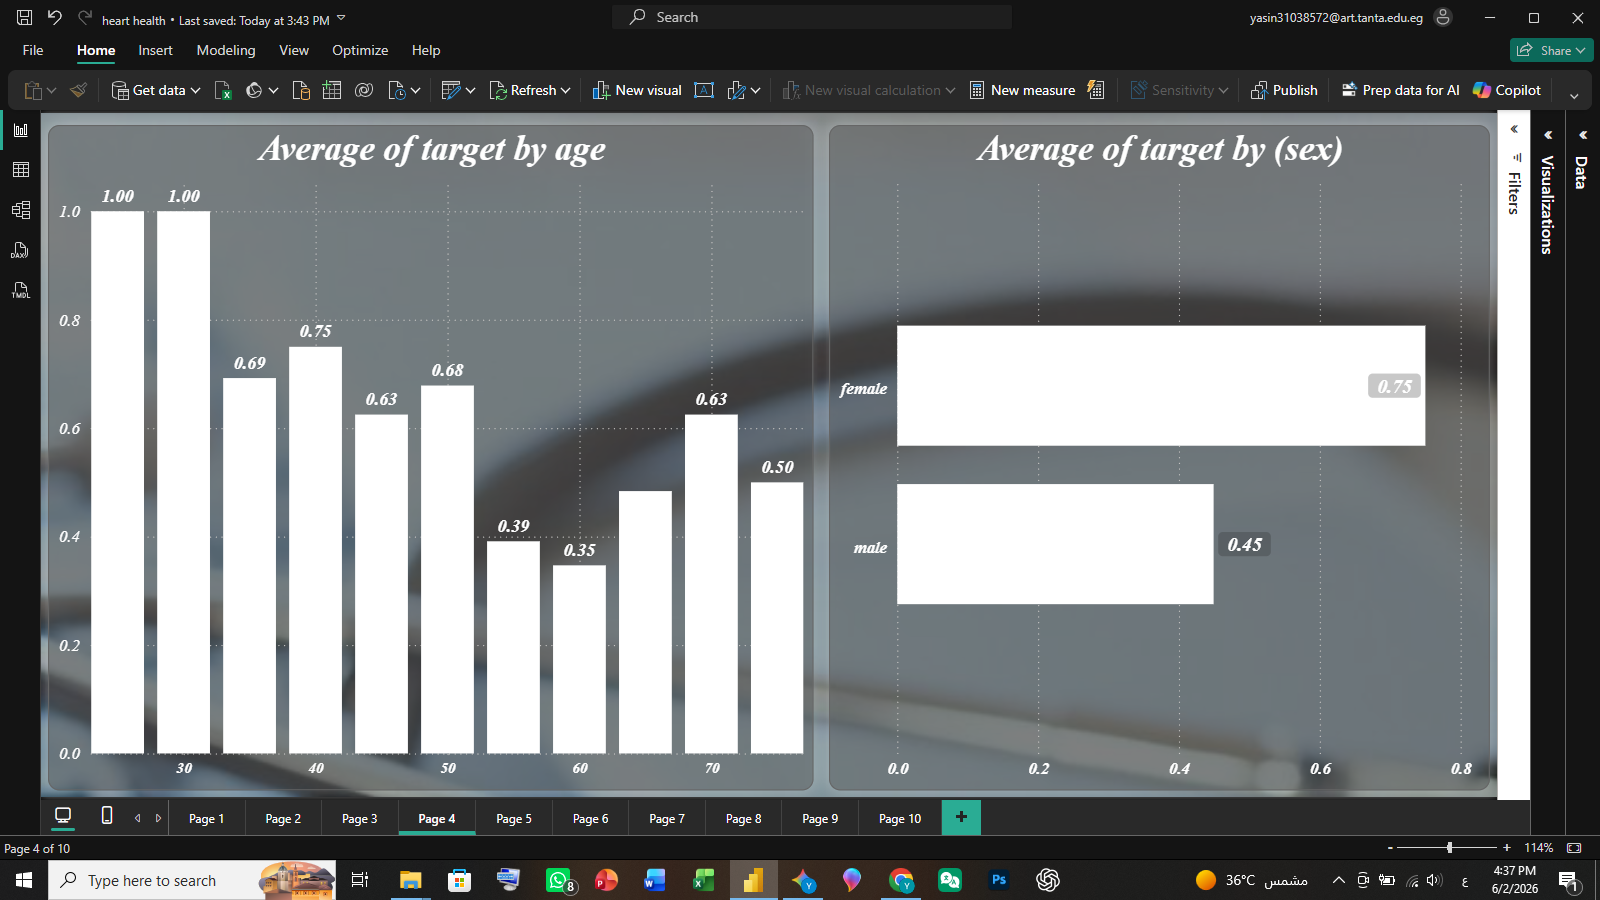

This screenshot's page, from the dashboard's own definition file:
{"tool":"powerbi","page":{"name":"Page 4","canvas":[1280,602],"ordinal":3},"visuals":[{"type":"clusteredColumnChart","title":"Average of target by age ","fields":{"Y":["Avg(Table1.target)"],"Category":["Table1.age (bins)"]},"box":[6.2,10.5,673.4,585.5],"z":0},{"type":"clusteredBarChart","fields":{"Category":["Table1.(sex)"],"Y":["Avg(Table1.target)"]},"box":[692.7,10.5,581.1,585.5],"z":1000}]}

Visuals, with their boxes on the page's 1280x602 design canvas (x1, y1, x2, y2). These are canvas units, not pixel positions in the 1600x900 screenshot, which may show the page scaled, cropped or inside an application window:
"Average of target by age " clusteredColumnChart: region(6, 10, 680, 596)
clusteredBarChart - Table1.(sex) x Avg(Table1.target): region(693, 10, 1274, 596)
